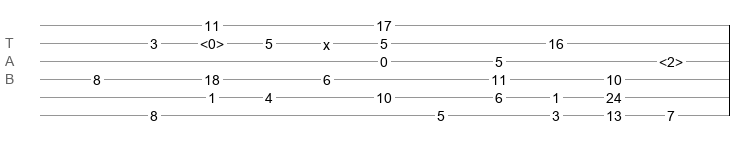0: (380, 54, 388, 64)
1: (208, 90, 216, 100), (552, 90, 560, 100)
10: (376, 90, 392, 100), (606, 72, 622, 82)
11: (204, 18, 220, 28), (491, 72, 507, 82)
13: (606, 108, 622, 118)
16: (548, 36, 564, 46)
17: (376, 18, 392, 28)
18: (204, 72, 220, 82)
24: (606, 90, 622, 100)
3: (150, 36, 158, 46), (552, 108, 560, 118)
4: (265, 90, 273, 100)
5: (265, 36, 273, 46), (380, 36, 388, 46), (437, 108, 445, 118), (495, 54, 503, 64)
6: (323, 72, 331, 82), (495, 90, 503, 100)
7: (667, 108, 675, 118)
8: (93, 72, 101, 82), (150, 108, 158, 118)
harmonic: (200, 36, 224, 46), (659, 54, 683, 64)
x: (323, 37, 330, 45)
